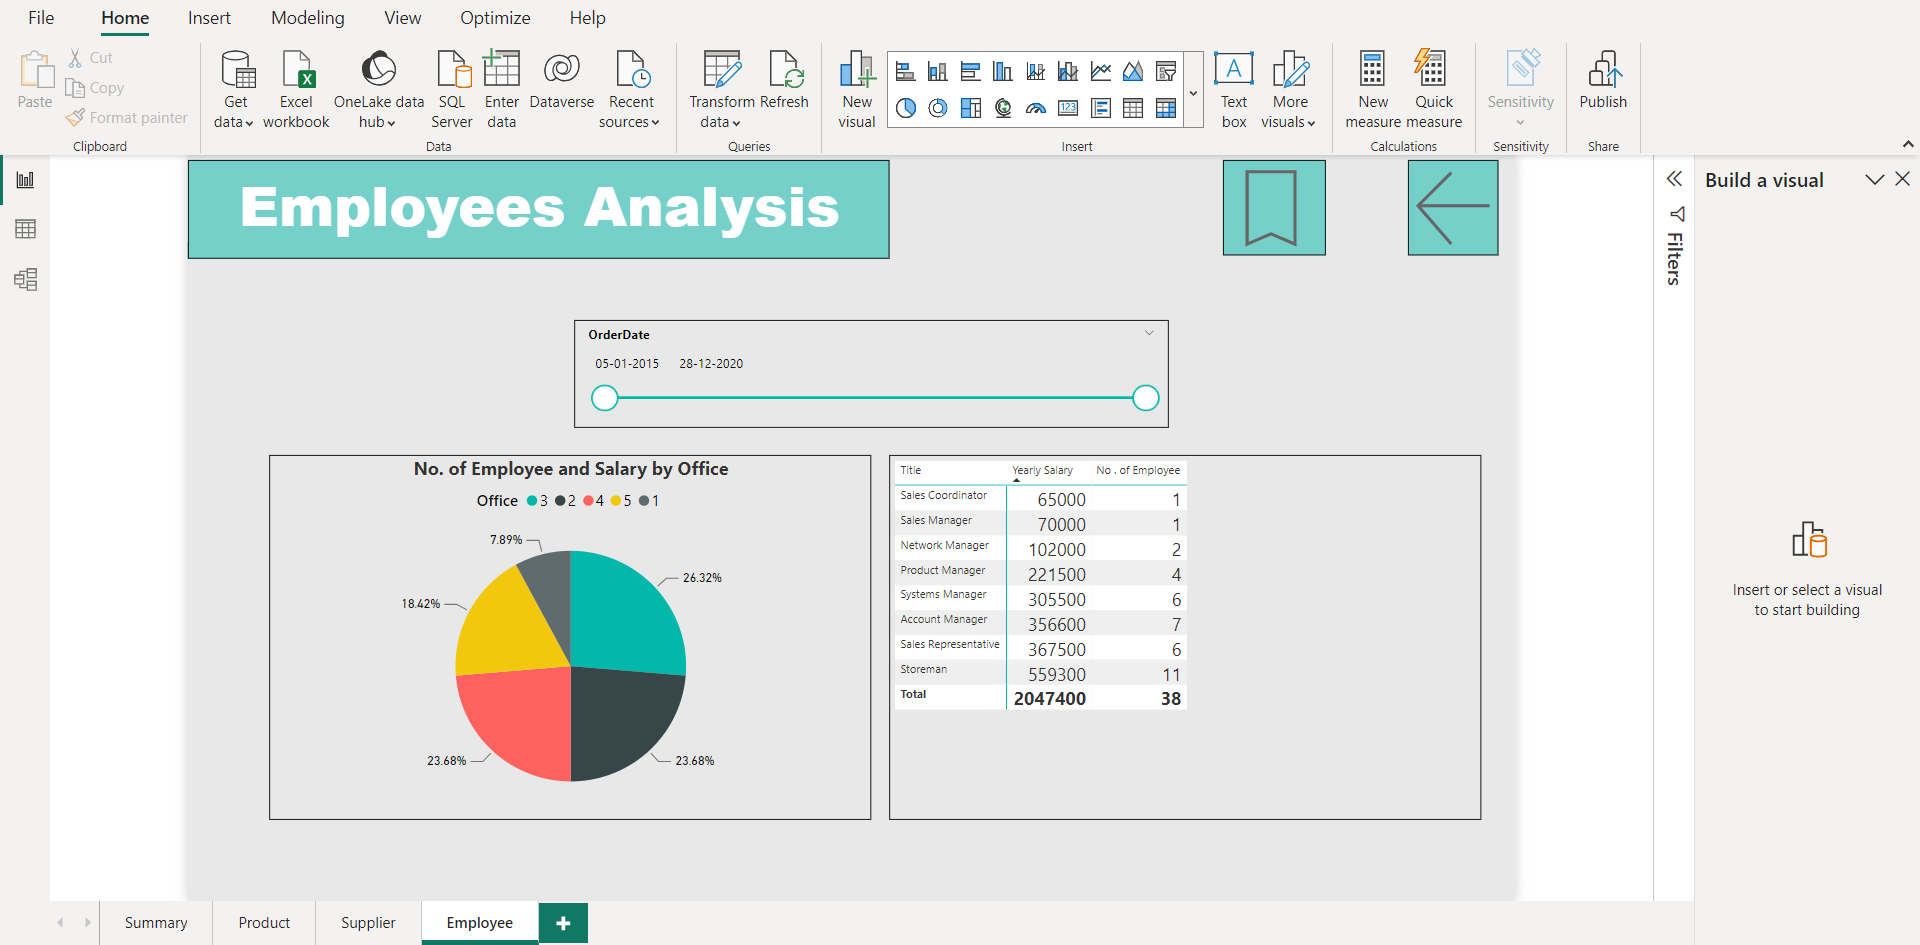

Layout of this report page (visuals, bound fields, positions):
{"tool":"powerbi","page":{"name":"Employee","canvas":[1280,720],"ordinal":3},"visuals":[{"type":"slicer","fields":{"Values":["OrdersHeader.OrderDate"]},"box":[372.8,158.9,573.3,103.9],"z":0},{"type":"pivotTable","fields":{"Values":["Sum(Employees.Year Salary)","CountNonNull(Employees.EmployeeID)"],"Rows":["Employees.Title"]},"box":[676,289.7,570.9,352.1],"z":1000},{"type":"textbox","box":[0,4.8,676.6,95.3],"z":2000},{"type":"pieChart","title":"No. of Employee and Salary by Office","fields":{"Category":["Offices.Office"],"Y":["CountNonNull(Employees.EmployeeID)"]},"box":[78.2,289.7,580.6,352.1],"z":3000},{"type":"actionButton","box":[1177.1,4.8,86.8,91.7],"z":4000},{"type":"actionButton","box":[998.7,4.9,99,91.7],"z":5000}]}

Visuals, with their boxes on the page's 1280x720 design canvas (x1, y1, x2, y2). These are canvas units, not pixel positions in the 1920x945 screenshot, which may show the page scaled, cropped or inside an application window:
slicer - OrdersHeader.OrderDate: Rect(373, 159, 946, 263)
pivotTable - Sum(Employees.Year Salary) x CountNonNull(Employees.EmployeeID): Rect(676, 290, 1247, 642)
textbox: Rect(0, 5, 677, 100)
"No. of Employee and Salary by Office" pieChart: Rect(78, 290, 659, 642)
actionButton: Rect(1177, 5, 1264, 96)
actionButton: Rect(999, 5, 1098, 97)
